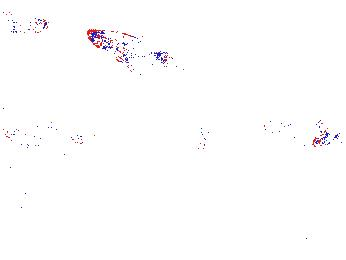red belly glassfish: (311, 132, 340, 151)
redtail glassfish: (85, 27, 180, 70), (5, 124, 102, 155), (260, 115, 326, 139), (109, 73, 171, 95), (1, 9, 52, 35)
